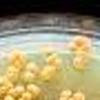yellow: (20, 62, 41, 84), (71, 56, 85, 71), (6, 67, 19, 83), (73, 36, 87, 49), (79, 52, 90, 68), (5, 52, 17, 65), (43, 65, 58, 75), (6, 87, 19, 98), (13, 85, 27, 95), (38, 69, 50, 80), (10, 47, 21, 59), (18, 50, 28, 63), (73, 90, 86, 100), (31, 85, 41, 98), (45, 56, 56, 67), (42, 49, 54, 59), (12, 59, 24, 69), (21, 90, 32, 100), (58, 89, 73, 96), (52, 57, 63, 66), (68, 42, 77, 52), (25, 83, 35, 92), (0, 74, 7, 86), (80, 45, 90, 53), (4, 81, 14, 89), (3, 94, 16, 100), (44, 74, 53, 81), (55, 65, 62, 73), (57, 95, 68, 100), (0, 90, 9, 95), (51, 52, 58, 58), (66, 97, 77, 100), (0, 93, 4, 100), (0, 86, 7, 90), (17, 96, 23, 100)
